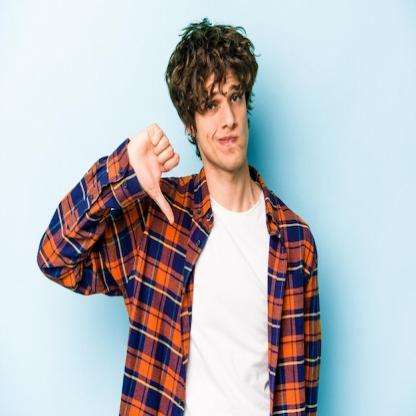thumb_down: (128, 118, 182, 224)
